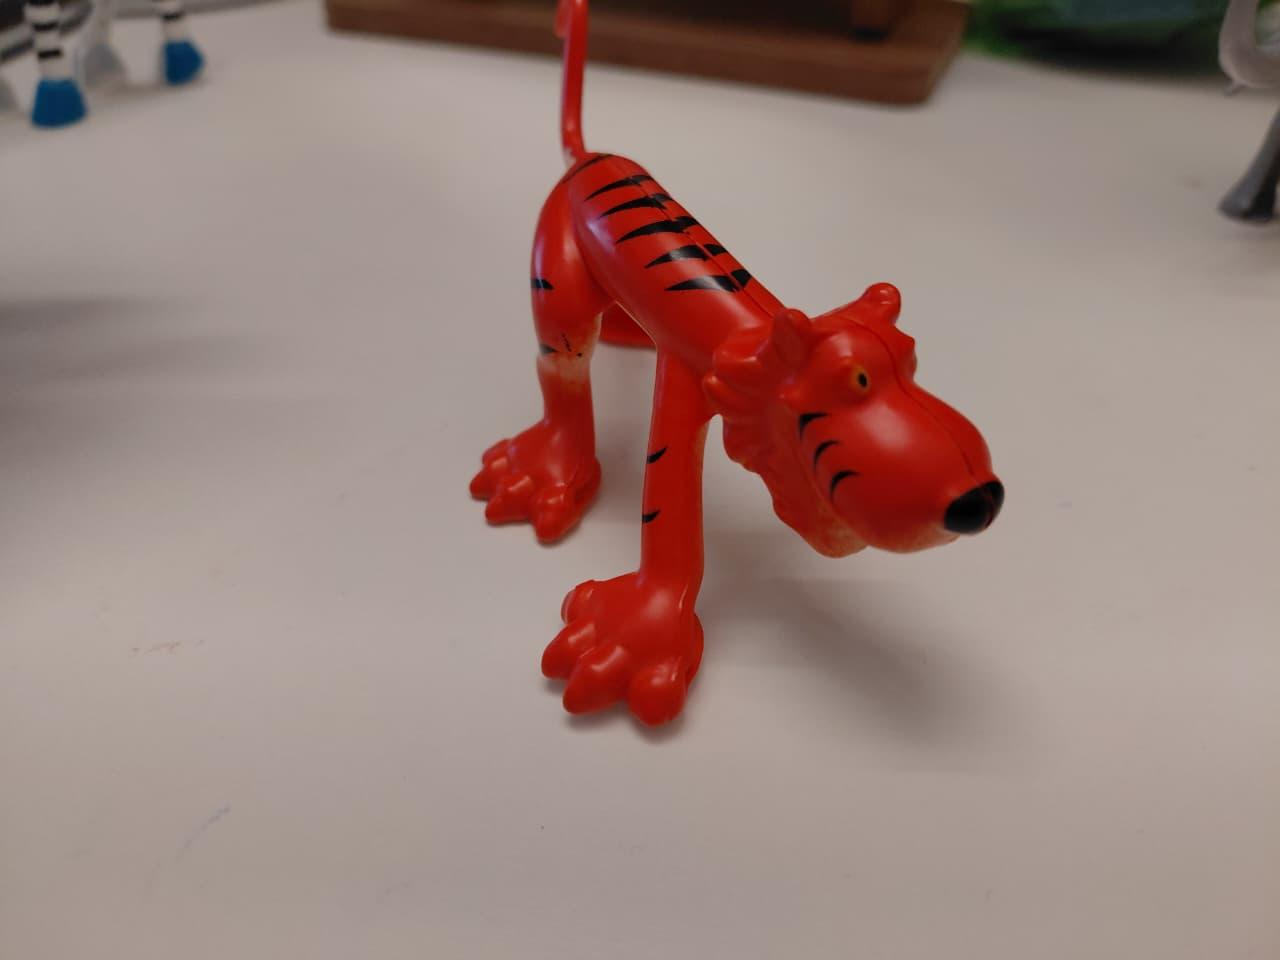tiger: (454, 0, 1027, 749)
